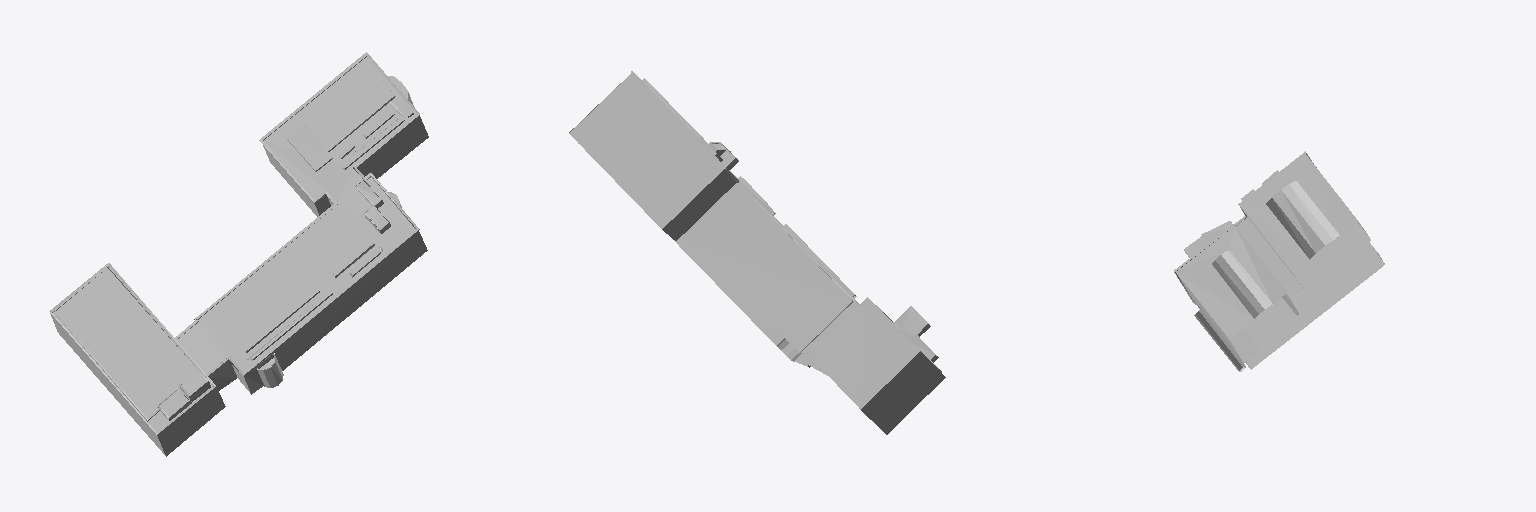
3 views of the same model, side by side, from view 1: azimuth 30°, elevation 25°; view 2: azimuth 150°, elevation 25°; view 3: azimuth 270°, elevation 25° (orthographic).
Visible parts, largest first — view 1: [number redacted]; view 2: [number redacted]; view 3: [number redacted].
Boxes of the visible parts, x1,y1,x2,y2 form: [number redacted]: [49, 52, 428, 456]; [number redacted]: [569, 71, 945, 434]; [number redacted]: [1174, 151, 1384, 371].
Size of the model in its own units: 89.5 by 78.5 by 45.75.